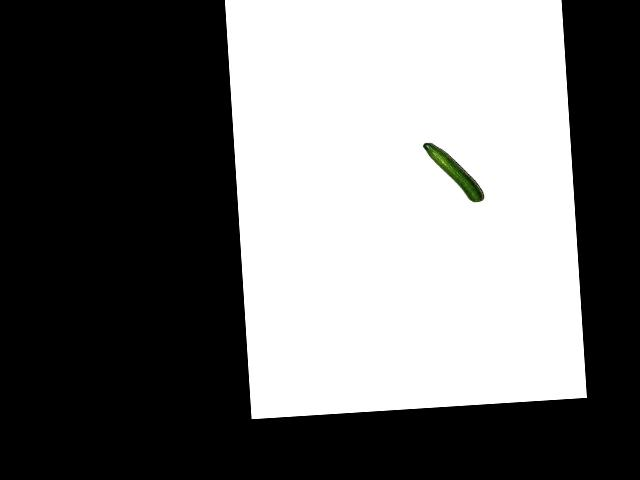cucumber: (423, 139, 484, 205)
